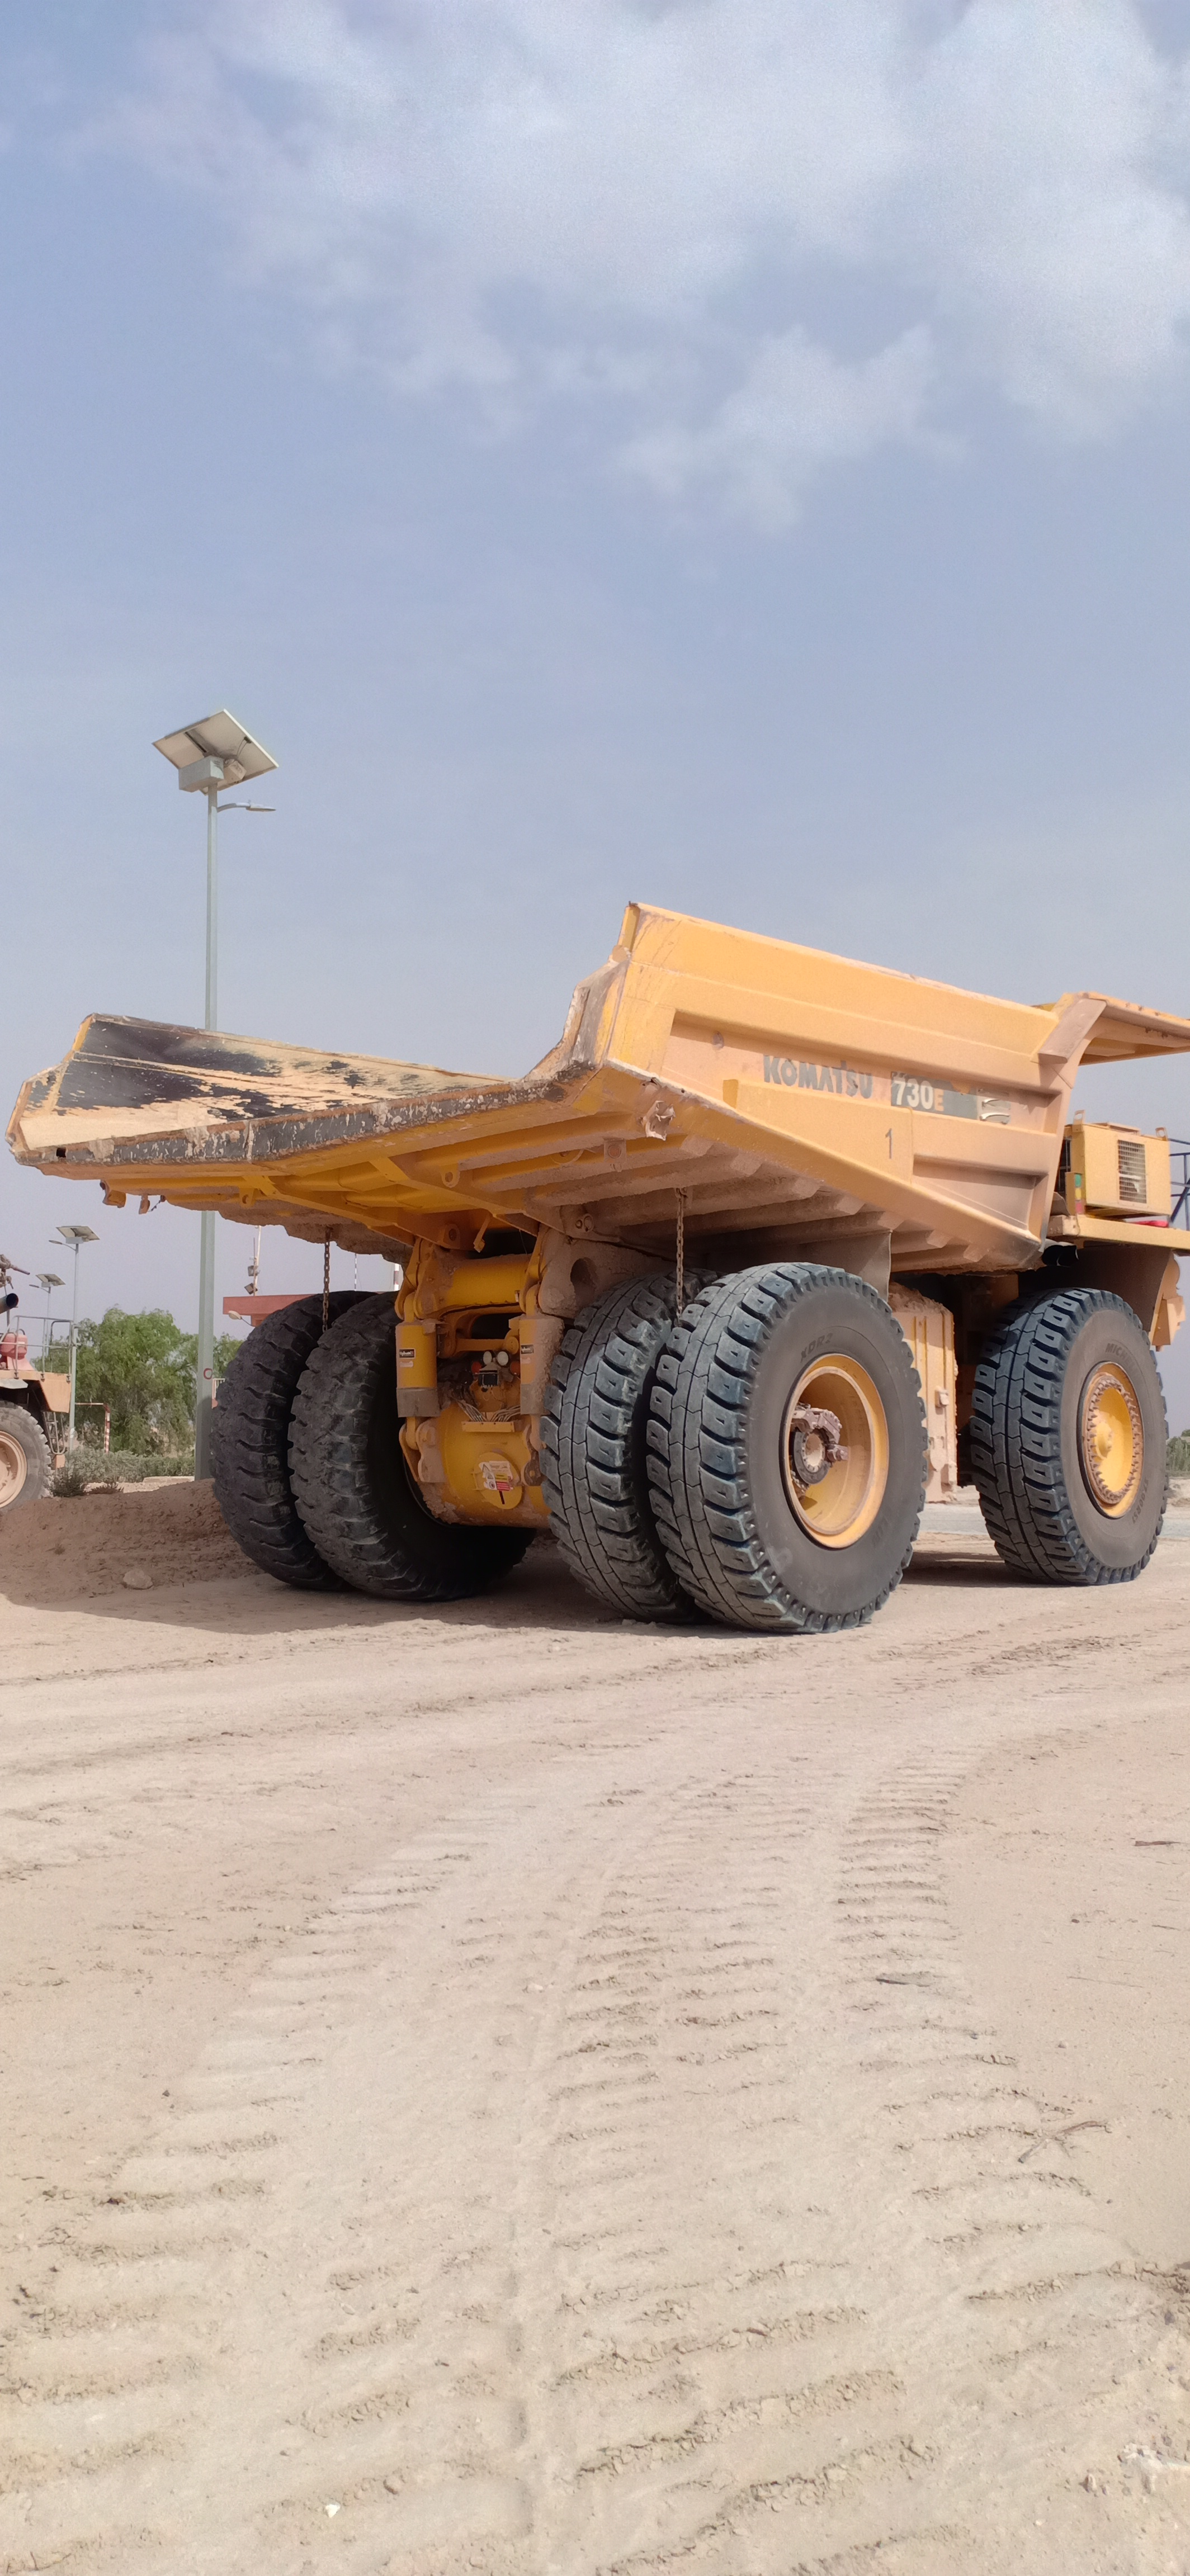camion: (0, 904, 1183, 1676)
